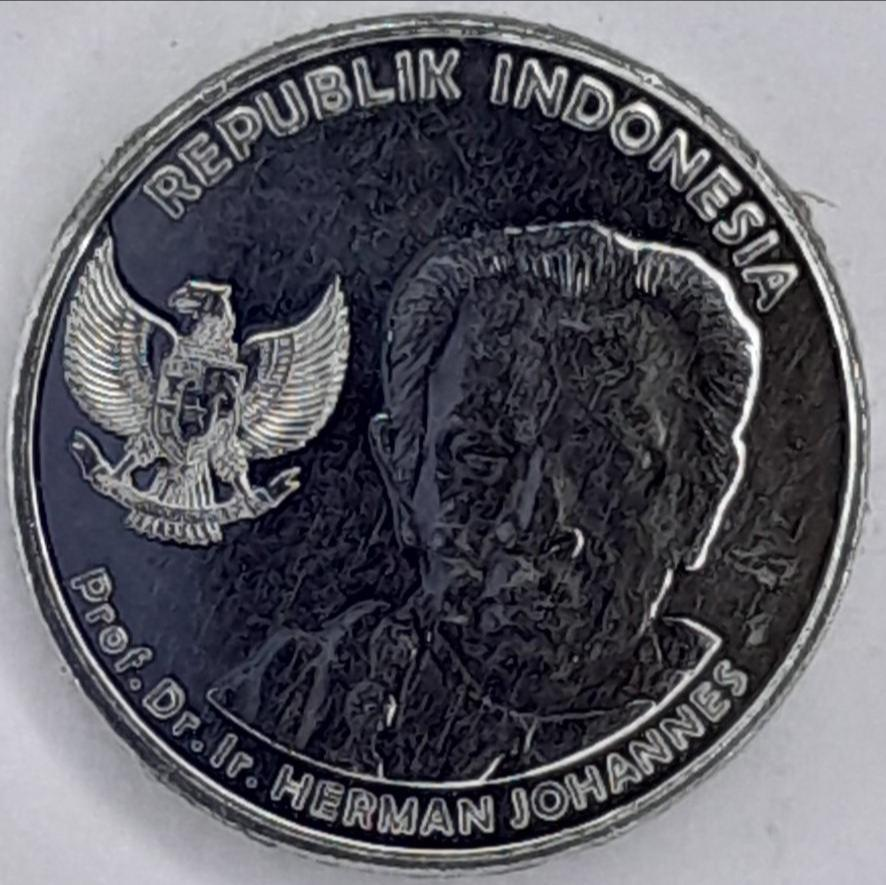coin_100_e2016: (2, 7, 874, 874)
